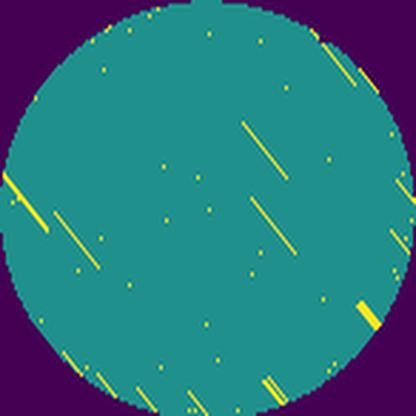Scratch: (246, 193, 300, 259), (53, 206, 105, 274), (3, 170, 52, 239), (238, 119, 291, 181), (309, 27, 359, 88)
